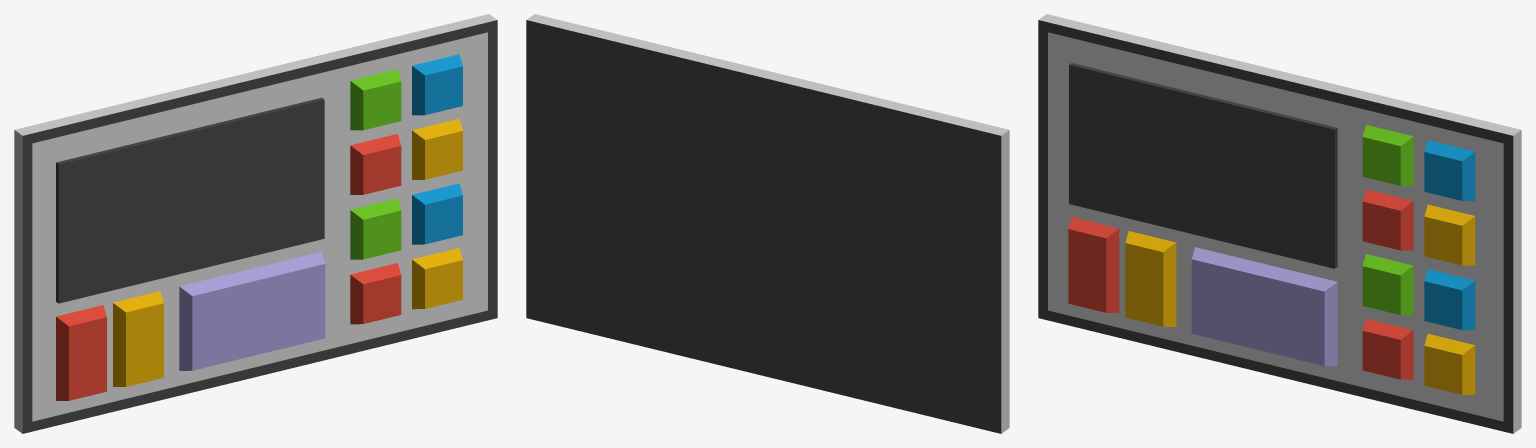
File: scifi_panel_horizontal.fbx
3 views of the same model, side by side, from view 1: azimuth 30°, elevation 25°; view 2: azimuth 150°, elevation 25°; view 3: azimuth 330°, elevation 25° (orthographic).
Visible parts, largest first — view 1: Screen.001; view 2: Screen.001; view 3: Screen.001.
Boxes of the visible parts, bbox=[...] form: Screen.001: bbox=[14, 14, 497, 433]; Screen.001: bbox=[526, 14, 1009, 433]; Screen.001: bbox=[1038, 14, 1521, 433].
Bounding box in the file's own units: 1 × 0.6 × 0.06.
